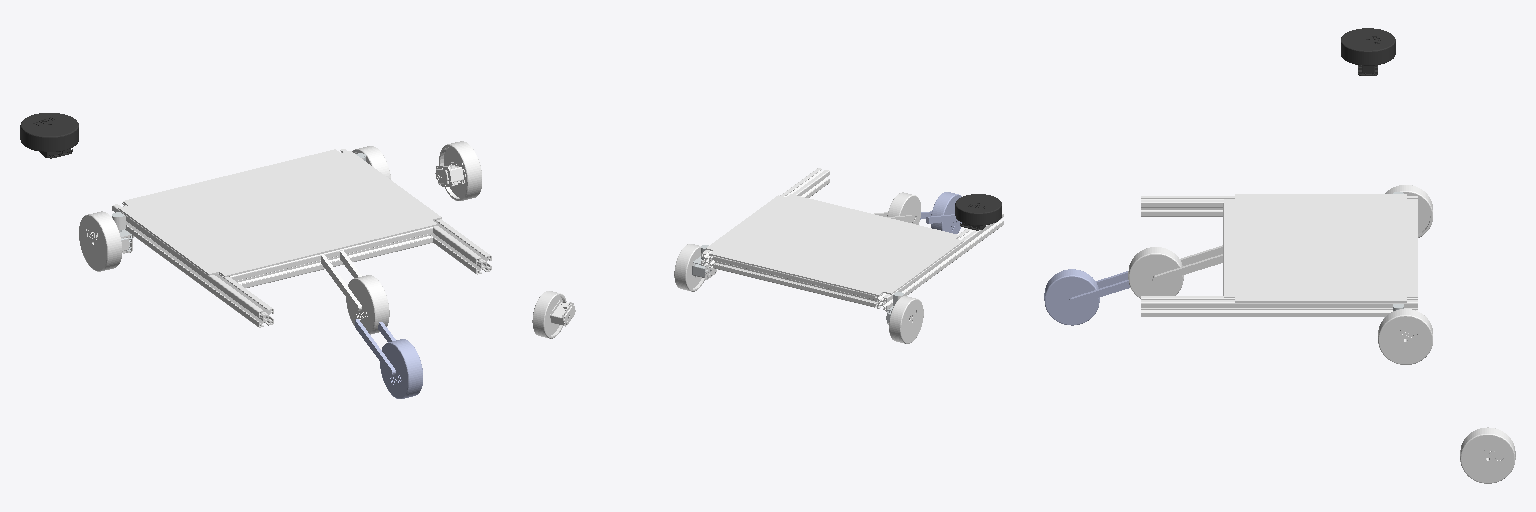
robot.urdf — Test_model_twowheel:
<?xml version="1.0" encoding="utf-8"?>
<!-- This URDF was automatically created by SolidWorks to URDF Exporter! Originally created by [author] ([email redacted]) 
     Commit Version: 1.5.1-0-g916b5db  Build Version: 1.5.7152.31018
     For more information, please see http://wiki.ros.org/sw_urdf_exporter -->
<robot
  name="Test_model_twowheel">
  <link
    name="base_link">
    <inertial>
      <origin
        xyz="0.127971061532612 0.320258661752509 0.135534200747675"
        rpy="0 0 0" />
      <mass
        value="2.55059126524419" />
      <inertia
        ixx="0.0243545519619488"
        ixy="8.08722383772206E-08"
        ixz="-3.7552250774355E-08"
        iyy="0.0384082245027454"
        iyz="1.27143891471105E-05"
        izz="0.0150997793195647" />
    </inertial>
    <visual>
      <origin
        xyz="0 0 0"
        rpy="0 0 0" />
      <geometry>
        <mesh
          filename="package://Test_model_twowheel/meshes/base_link.STL" />
      </geometry>
      <material
        name="">
        <color
          rgba="1 1 1 0.3" />
      </material>
    </visual>
    <collision>
      <origin
        xyz="0 0 0"
        rpy="0 0 0" />
      <geometry>
        <mesh
          filename="package://Test_model_twowheel/meshes/base_link.STL" />
      </geometry>
    </collision>
  </link>
  <link
    name="body_frame">
    <inertial>
      <origin
        xyz="0.032447090089661 0.0107558375788908 -0.000168914898724198"
        rpy="0 0 0" />
      <mass
        value="2.12827357539073" />
      <inertia
        ixx="0.0191666572838141"
        ixy="-1.27406422046984E-05"
        ixz="-1.49552195871888E-18"
        iyy="0.0424663415987444"
        iyz="-1.96185546420749E-17"
        izz="0.0235787057088046" />
    </inertial>
    <visual>
      <origin
        xyz="0 0 0"
        rpy="0 0 0" />
      <geometry>
        <mesh
          filename="package://Test_model_twowheel/meshes/body_frame.STL" />
      </geometry>
      <material
        name="">
        <color
          rgba="1 1 1 0.3" />
      </material>
    </visual>
    <collision>
      <origin
        xyz="0 0 0"
        rpy="0 0 0" />
      <geometry>
        <mesh
          filename="package://Test_model_twowheel/meshes/body_frame.STL" />
      </geometry>
    </collision>
  </link>
  <joint
    name="body_fix"
    type="fixed">
    <origin
      xyz="0.128048360692752 -0.0901283795092336 0.342096386681778"
      rpy="-1.5707963267949 0 -1.5707963267949" />
    <parent
      link="base_link" />
    <child
      link="body_frame" />
    <axis
      xyz="0 0 0" />
  </joint>
  <link
    name="Front_wheel">
    <inertial>
      <origin
        xyz="0.022014 0.0019731 0.11577"
        rpy="0 0 0" />
      <mass
        value="0.26479" />
      <inertia
        ixx="0.00034075"
        ixy="5.0752E-08"
        ixz="-2.7225E-08"
        iyy="0.00021306"
        iyz="1.2729E-05"
        izz="0.00018091" />
    </inertial>
    <visual>
      <origin
        xyz="0 0 0"
        rpy="0 0 0" />
      <geometry>
        <mesh
          filename="package://Test_model_twowheel/meshes/Front_wheel.STL" />
      </geometry>
      <material
        name="">
        <color
          rgba="0.79216 0.81961 0.93333 1" />
      </material>
    </visual>
    <collision>
      <origin
        xyz="0 0 0"
        rpy="0 0 0" />
      <geometry>
        <mesh
          filename="package://Test_model_twowheel/meshes/Front_wheel.STL" />
      </geometry>
    </collision>
  </link>
  <joint
    name="Front_wheel_joint"
    type="revolute">
    <origin
      xyz="0.10691 -0.26713 0.2906"
      rpy="1.5708 0 0" />
    <parent
      link="base_link" />
    <child
      link="Front_wheel" />
    <axis
      xyz="1 0 0" />
    <limit
      lower="0"
      upper="0"
      effort="0"
      velocity="0" />
  </joint>
  <link
    name="Left_wheel_Holder">
    <inertial>
      <origin
        xyz="-0.00015234 -0.0005688 -0.0012883"
        rpy="0 0 0" />
      <mass
        value="0.07187" />
      <inertia
        ixx="1.5632E-05"
        ixy="1.6485E-08"
        ixz="1.5645E-07"
        iyy="1.6394E-05"
        iyz="2.9641E-09"
        izz="1.2077E-05" />
    </inertial>
    <visual>
      <origin
        xyz="0 0 0"
        rpy="0 0 0" />
      <geometry>
        <mesh
          filename="package://Test_model_twowheel/meshes/Left_wheel_Holder.STL" />
      </geometry>
      <material
        name="">
        <color
          rgba="0.89804 0.91765 0.92941 1" />
      </material>
    </visual>
    <collision>
      <origin
        xyz="0 0 0"
        rpy="0 0 0" />
      <geometry>
        <mesh
          filename="package://Test_model_twowheel/meshes/Left_wheel_Holder.STL" />
      </geometry>
    </collision>
  </link>
  <joint
    name="Left_Holder"
    type="fixed">
    <origin
      xyz="0.3678 0.049872 0.3031"
      rpy="1.5708 0 0" />
    <parent
      link="base_link" />
    <child
      link="Left_wheel_Holder" />
    <axis
      xyz="0 0 0" />
  </joint>
  <link
    name="Right_wheel_Holder">
    <inertial>
      <origin
        xyz="0.00015234 -0.00053677 -0.0012883"
        rpy="0 0 0" />
      <mass
        value="0.07187" />
      <inertia
        ixx="1.5632E-05"
        ixy="1.6485E-08"
        ixz="-1.5645E-07"
        iyy="1.6394E-05"
        iyz="-2.9641E-09"
        izz="1.2077E-05" />
    </inertial>
    <visual>
      <origin
        xyz="0 0 0"
        rpy="0 0 0" />
      <geometry>
        <mesh
          filename="package://Test_model_twowheel/meshes/Right_wheel_Holder.STL" />
      </geometry>
      <material
        name="">
        <color
          rgba="0.89804 0.91765 0.92941 1" />
      </material>
    </visual>
    <collision>
      <origin
        xyz="0 0 0"
        rpy="0 0 0" />
      <geometry>
        <mesh
          filename="package://Test_model_twowheel/meshes/Right_wheel_Holder.STL" />
      </geometry>
    </collision>
  </link>
  <joint
    name="Right_Holder"
    type="fixed">
    <origin
      xyz="-0.1122 0.049872 0.3031"
      rpy="1.5708 0 0" />
    <parent
      link="base_link" />
    <child
      link="Right_wheel_Holder" />
    <axis
      xyz="0 0 0" />
  </joint>
  <link
    name="Left_wheel">
    <inertial>
      <origin
        xyz="-0.0023314 -0.00071059 0.0018686"
        rpy="0 0 0" />
      <mass
        value="0.2345" />
      <inertia
        ixx="0.00026256"
        ixy="8.2965E-09"
        ixz="1.5108E-07"
        iyy="0.00014774"
        iyz="1.4969E-06"
        izz="0.00014421" />
    </inertial>
    <visual>
      <origin
        xyz="0 0 0"
        rpy="0 0 0" />
      <geometry>
        <mesh
          filename="package://Test_model_twowheel/meshes/Left_wheel.STL" />
      </geometry>
      <material
        name="">
        <color
          rgba="1 1 1 1" />
      </material>
    </visual>
    <collision>
      <origin
        xyz="0 0 0"
        rpy="0 0 0" />
      <geometry>
        <mesh
          filename="package://Test_model_twowheel/meshes/Left_wheel.STL" />
      </geometry>
    </collision>
  </link>
  <joint
    name="Left_wheel_joint"
    type="revolute">
    <origin
      xyz="0.39355 0.063472 0.2903"
      rpy="1.2178 0 0" />
    <parent
      link="base_link" />
    <child
      link="Left_wheel" />
    <axis
      xyz="1 0 0" />
    <limit
      lower="0"
      upper="0"
      effort="0"
      velocity="0" />
  </joint>
  <link
    name="Right_wheel">
    <inertial>
      <origin
        xyz="1.2458E-05 0.011305 -0.036419"
        rpy="0 0 0" />
      <mass
        value="0.2345" />
      <inertia
        ixx="0.0001483"
        ixy="-6.741E-09"
        ixz="2.9897E-08"
        iyy="0.00014366"
        iyz="1.4922E-07"
        izz="0.00026256" />
    </inertial>
    <visual>
      <origin
        xyz="0 0 0"
        rpy="0 0 0" />
      <geometry>
        <mesh
          filename="package://Test_model_twowheel/meshes/Right_wheel.STL" />
      </geometry>
      <material
        name="">
        <color
          rgba="0.29804 0.29804 0.29804 1" />
      </material>
    </visual>
    <collision>
      <origin
        xyz="0 0 0"
        rpy="0 0 0" />
      <geometry>
        <mesh
          filename="package://Test_model_twowheel/meshes/Right_wheel.STL" />
      </geometry>
    </collision>
  </link>
  <joint
    name="Right_wheel_joint"
    type="revolute">
    <origin
      xyz="-0.099202 0.050172 0.2903"
      rpy="0 1.5708 0" />
    <parent
      link="base_link" />
    <child
      link="Right_wheel" />
    <axis
      xyz="1 0 0" />
    <limit
      lower="0"
      upper="0"
      effort="0"
      velocity="0" />
  </joint>
</robot>

--- Facts derived from the render (not from the file) ---
The picture shows the robot from 3 angles, left to right: view 1: azimuth 30°, elevation 25°; view 2: azimuth 150°, elevation 25°; view 3: azimuth 270°, elevation 25°; orthographic projection.
Robot: Test_model_twowheel — 7 links, 6 joints (3 revolute, 3 fixed); root link base_link; default pose: all joints at 0.
Links seen in each view (by area): view 1: base_link, Front_wheel, Right_wheel, Left_wheel, body_frame; view 2: base_link, body_frame, Left_wheel, Right_wheel, Front_wheel; view 3: base_link, Front_wheel, Left_wheel, Right_wheel, body_frame.
Link boxes in pixels (x1,y1,x2,y2): base_link: [79, 146, 491, 334]; Front_wheel: [355, 319, 422, 398]; Right_wheel: [20, 113, 78, 158]; Left_wheel: [435, 141, 481, 200]; body_frame: [112, 149, 488, 323]; base_link: [674, 168, 1003, 343]; body_frame: [701, 169, 1001, 309]; Left_wheel: [532, 291, 575, 338]; Right_wheel: [955, 194, 1001, 230]; Front_wheel: [920, 192, 961, 233]; base_link: [1128, 185, 1432, 364]; Front_wheel: [1044, 269, 1129, 325]; Left_wheel: [1460, 427, 1515, 483]; Right_wheel: [1341, 28, 1395, 75]; body_frame: [1141, 196, 1417, 316].
Size in the robot's own frame: 1 by 0.8526 by 0.4441 metres.
Meshes: 7 distinct files referenced, 7 mesh visuals loaded (7 binary STL).